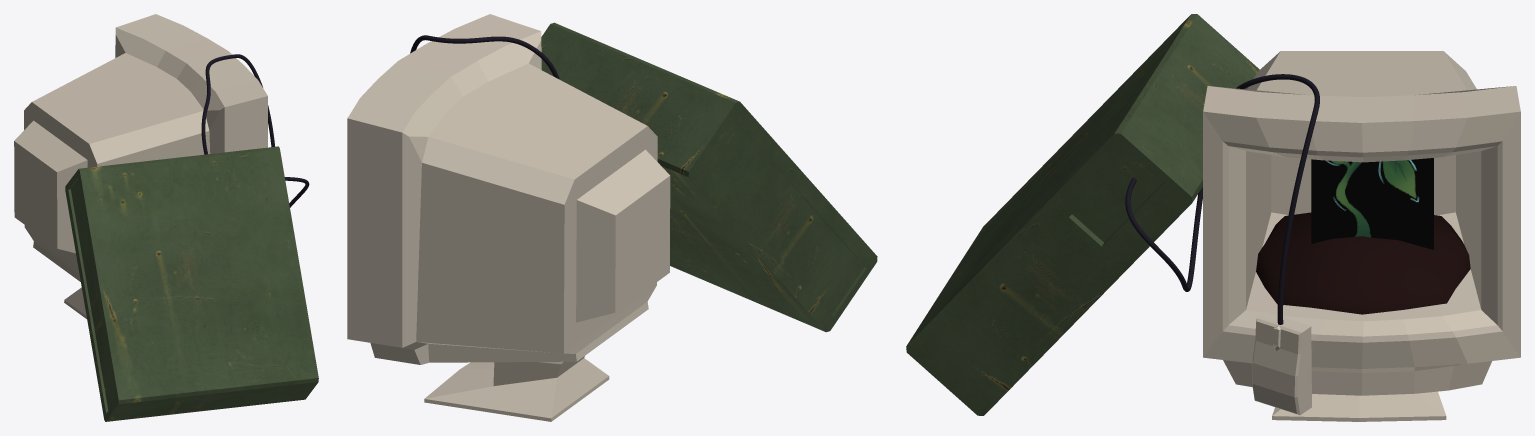
The model's file is Old_computer_V2.fbx.
The picture shows the model from 3 angles, left to right: view 1: azimuth 30°, elevation 25°; view 2: azimuth 150°, elevation 25°; view 3: azimuth 270°, elevation 25°; orthographic projection. The views are drawn at different scales.
Parts seen in each view (by area): view 1: Computer box V2, Computer screen V2, Wire V2; view 2: Computer screen V2, Computer box V2, Wire V2; view 3: Computer screen V2, Computer box V2, Dirt, Plane, Mouse V2, Wire V2.
Boxes of the visible parts, x1=… form: Computer box V2: x1=65, y1=146, x2=318, y2=421; Computer screen V2: x1=14, y1=14, x2=267, y2=318; Wire V2: x1=201, y1=54, x2=309, y2=207; Computer screen V2: x1=347, y1=14, x2=670, y2=421; Computer box V2: x1=541, y1=22, x2=877, y2=332; Wire V2: x1=410, y1=35, x2=559, y2=79; Computer screen V2: x1=1203, y1=51, x2=1520, y2=421; Computer box V2: x1=906, y1=14, x2=1259, y2=415; Dirt: x1=1256, y1=212, x2=1470, y2=314; Plane: x1=1311, y1=158, x2=1433, y2=249; Mouse V2: x1=1252, y1=311, x2=1311, y2=415; Wire V2: x1=1125, y1=74, x2=1319, y2=324.
Bounding box in the file's own units: 331 × 285 × 453.
Materials: 6 (2 with a texture image).
